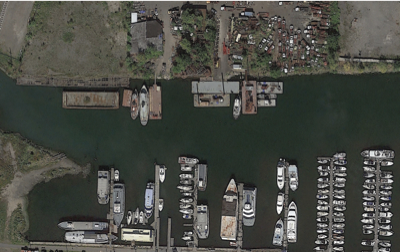boat: (220, 176, 240, 240), (65, 230, 119, 243), (242, 186, 258, 226), (113, 182, 126, 227), (196, 202, 210, 239), (58, 220, 109, 230), (97, 169, 111, 204), (287, 200, 298, 243), (139, 84, 150, 126), (144, 182, 155, 218), (288, 164, 300, 193), (130, 88, 140, 120), (273, 216, 284, 245), (361, 149, 395, 158), (197, 163, 208, 190), (276, 160, 286, 189), (233, 94, 242, 119), (178, 155, 200, 164), (277, 191, 285, 215), (257, 99, 278, 106), (159, 165, 166, 183), (257, 93, 278, 99), (134, 206, 140, 224), (176, 184, 193, 190), (379, 211, 394, 217), (126, 210, 132, 225), (380, 172, 394, 178), (333, 152, 347, 158), (363, 165, 376, 171), (316, 204, 329, 210), (361, 212, 376, 217), (332, 199, 347, 204), (333, 165, 348, 170), (179, 208, 194, 213), (179, 173, 194, 178), (380, 184, 394, 189), (362, 189, 376, 194), (361, 195, 375, 200), (360, 218, 374, 223), (379, 230, 393, 235), (332, 222, 346, 227), (334, 159, 348, 164), (314, 239, 328, 244), (381, 161, 394, 166), (363, 160, 376, 165), (381, 178, 394, 183), (362, 184, 375, 189), (379, 218, 392, 223), (380, 224, 393, 229), (334, 205, 347, 210), (334, 176, 347, 181), (317, 165, 330, 170), (179, 203, 192, 208), (180, 197, 193, 202), (159, 198, 164, 211), (139, 210, 144, 223), (364, 172, 376, 177), (334, 188, 346, 193), (318, 183, 330, 188), (317, 210, 329, 215), (317, 222, 329, 227), (317, 228, 329, 233), (313, 245, 328, 249), (180, 179, 192, 184), (115, 169, 120, 181), (334, 217, 345, 222), (317, 199, 328, 204), (181, 166, 192, 171), (379, 242, 392, 246), (378, 247, 391, 251), (332, 229, 345, 233), (334, 172, 347, 176), (316, 194, 329, 198), (182, 235, 192, 240), (380, 190, 392, 194), (380, 196, 392, 200), (363, 201, 375, 205), (380, 202, 392, 206), (363, 224, 375, 228), (361, 241, 373, 245), (333, 246, 345, 250), (333, 212, 345, 216), (334, 194, 346, 198), (334, 183, 346, 187), (317, 177, 329, 181), (318, 188, 330, 192), (181, 192, 193, 196), (184, 230, 193, 235), (183, 214, 192, 219), (379, 207, 390, 211), (364, 207, 375, 211), (334, 240, 345, 244), (317, 159, 328, 163), (317, 217, 328, 221), (365, 178, 375, 182), (319, 172, 329, 176), (318, 234, 328, 238), (364, 229, 373, 233), (333, 235, 345, 238), (230, 240, 237, 245), (280, 157, 286, 160), (372, 242, 375, 246), (379, 223, 381, 227)
